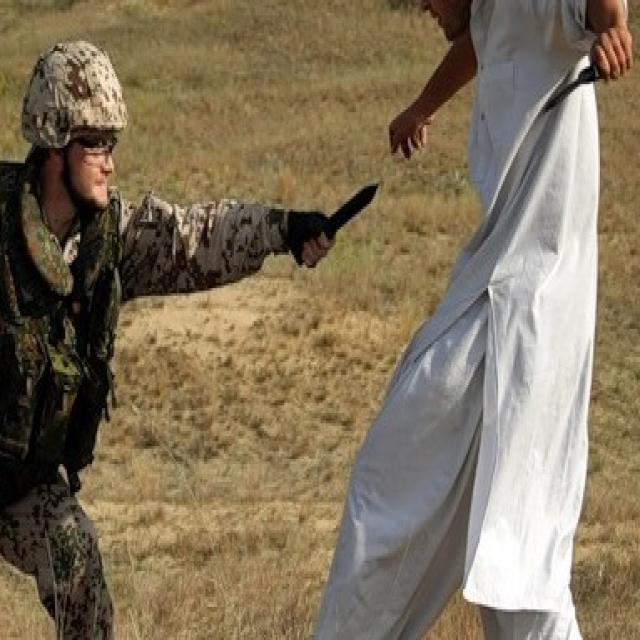knife: (323, 172, 386, 260)
